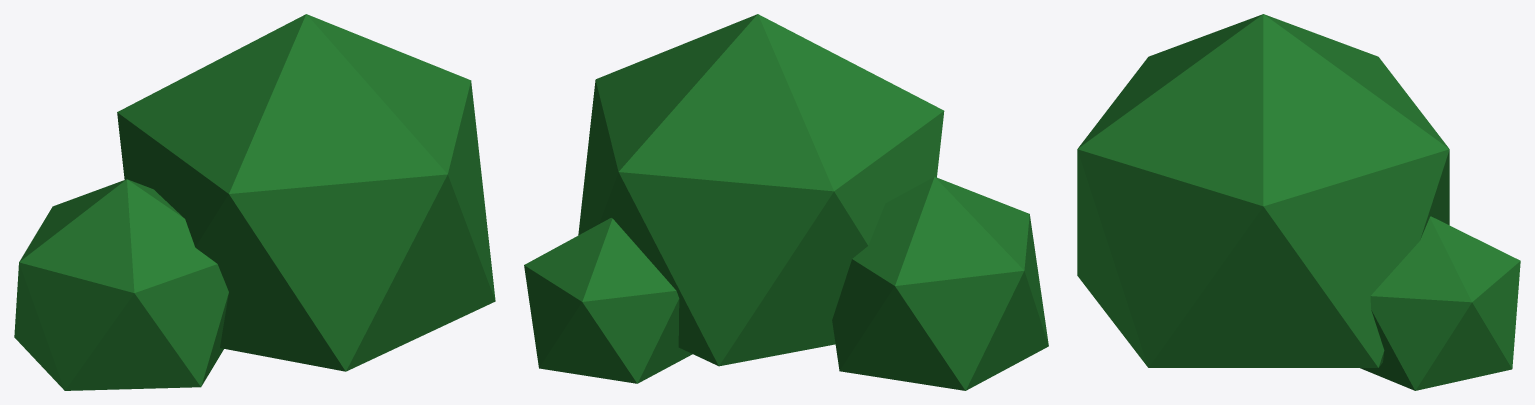
The model's file is bush.fbx.
3 views of the same model, side by side, from view 1: azimuth 30°, elevation 25°; view 2: azimuth 150°, elevation 25°; view 3: azimuth 270°, elevation 25° (orthographic). The views are drawn at different scales.
Visible parts, largest first — view 1: Icosphere.001; view 2: Icosphere.001; view 3: Icosphere.001.
Boxes of the visible parts, bbox=[...] form: Icosphere.001: bbox=[14, 14, 495, 390]; Icosphere.001: bbox=[524, 14, 1048, 390]; Icosphere.001: bbox=[1077, 14, 1520, 390].
Size of the model in its own units: 78.29 by 55.01 by 65.85.
